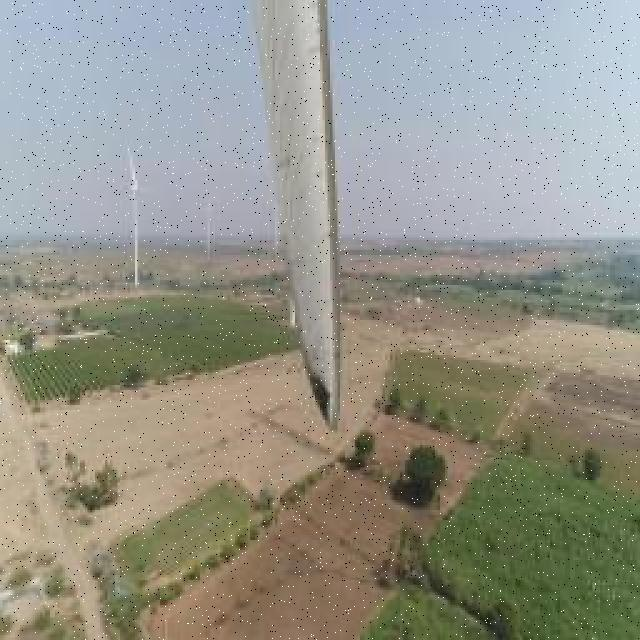Dirt: (248, 0, 338, 428)
Oil LEAKAGE: (306, 368, 335, 423)
